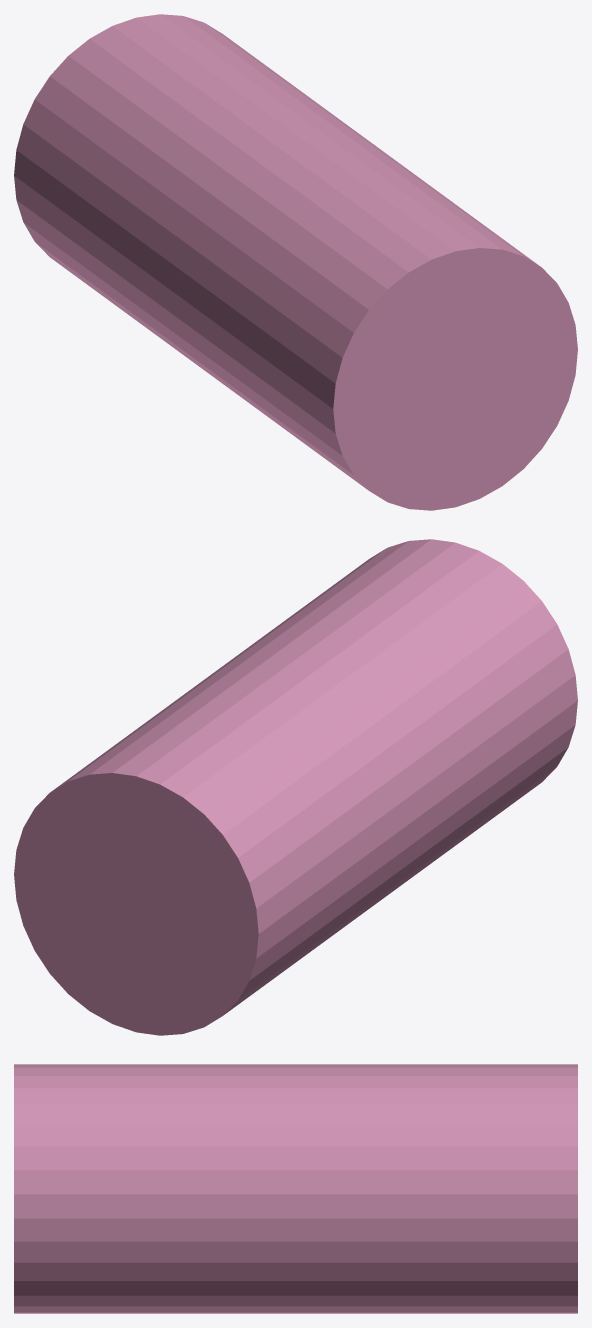
The model's file is inner_tire.dae.
The picture shows the model from 3 angles, top to bottom: view 1: azimuth 30°, elevation 25°; view 2: azimuth 150°, elevation 25°; view 3: azimuth 270°, elevation 25°; orthographic projection. The views are drawn at different scales.
Parts seen in each view (by area): view 1: Cylinder; view 2: Cylinder; view 3: Cylinder.
Part boxes in pixels (x1,y1,x2,y2): Cylinder: (14,14,577,510); Cylinder: (14,539,577,1035); Cylinder: (14,1064,577,1313).
Bounding box in the file's own units: 0.05 × 0.113 × 0.05.
